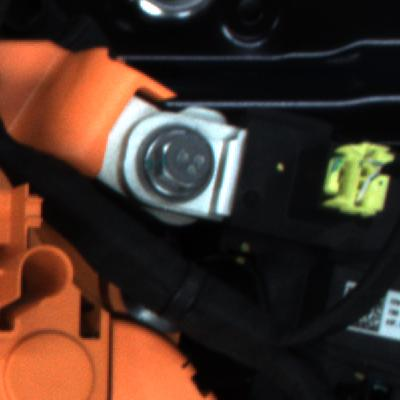nut_b: (132, 118, 226, 205)
